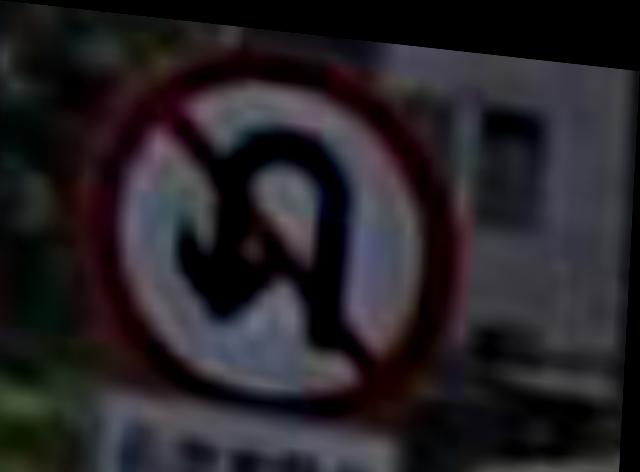not_u_turn_left: (68, 23, 478, 430)
